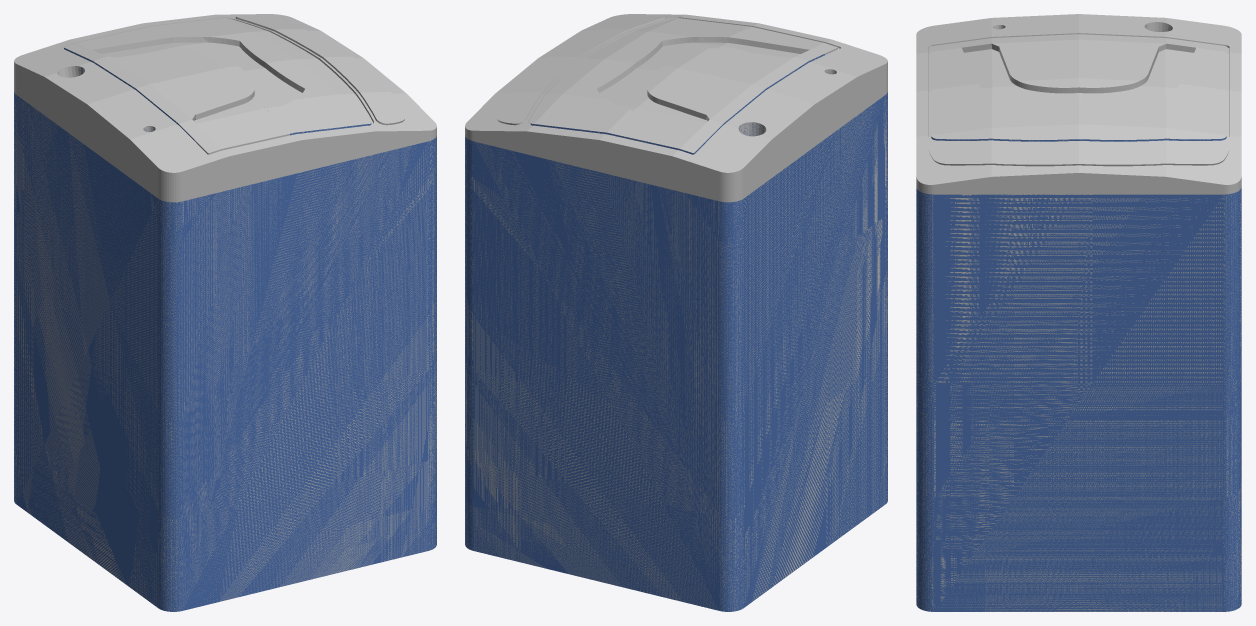
The picture shows the model from 3 angles, left to right: view 1: azimuth 30°, elevation 25°; view 2: azimuth 150°, elevation 25°; view 3: azimuth 270°, elevation 25°; orthographic projection.
Visible parts, largest first — view 1: mesh1_mesh1-geometry; view 2: mesh1_mesh1-geometry; view 3: mesh1_mesh1-geometry.
Boxes of the visible parts, x1,y1,x2,y2 form: mesh1_mesh1-geometry: (14, 14, 436, 611); mesh1_mesh1-geometry: (465, 14, 887, 611); mesh1_mesh1-geometry: (916, 14, 1241, 611).
Bounding box in the file's own units: 0.4715 × 0.7452 × 0.4715.
